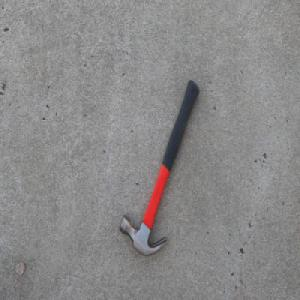Hammer: (118, 79, 200, 257)
